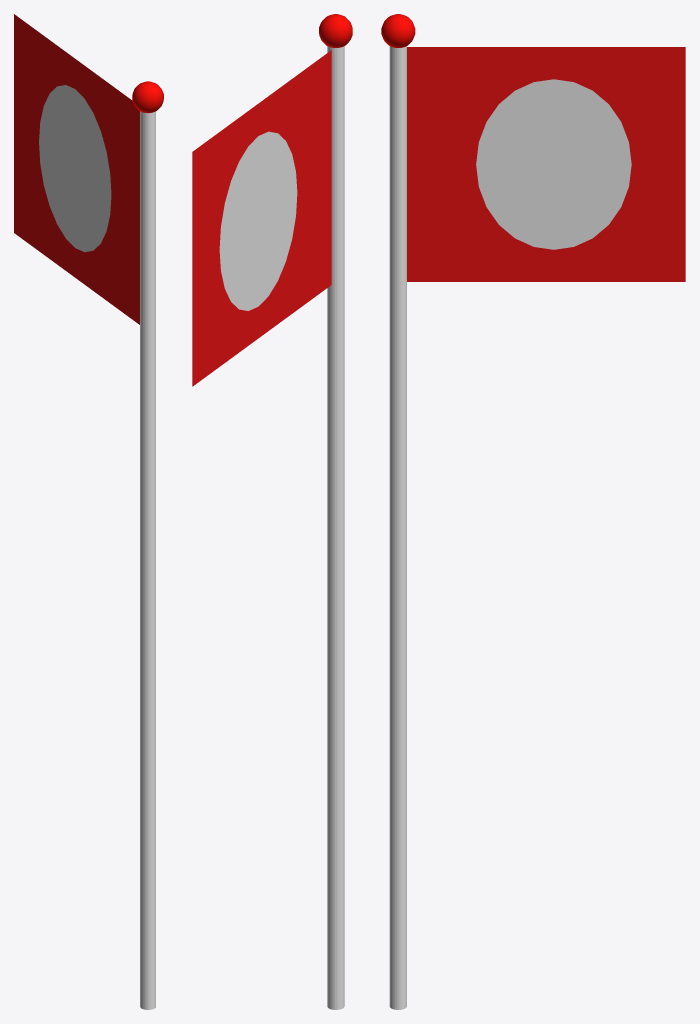
The model's file is Flag.Minigolf.fbx.
3 renders of one model, left to right at view 1: azimuth 30°, elevation 25°; view 2: azimuth 150°, elevation 25°; view 3: azimuth 270°, elevation 25°, orthographic. The views are drawn at different scales.
Parts seen in each view (by area): view 1: Plane.001, Cylinder.001, Circle.001, Sphere.001; view 2: Plane.001, Cylinder.001, Circle.001, Sphere.001; view 3: Plane.001, Circle.001, Cylinder.001, Sphere.001.
Boxes of the visible parts, x1,y1,x2,y2 form: Plane.001: [14, 14, 139, 324]; Cylinder.001: [140, 111, 155, 1009]; Circle.001: [39, 85, 111, 252]; Sphere.001: [132, 81, 163, 113]; Plane.001: [192, 50, 331, 386]; Cylinder.001: [327, 46, 344, 1009]; Circle.001: [219, 131, 297, 310]; Sphere.001: [319, 14, 352, 47]; Plane.001: [407, 47, 685, 281]; Circle.001: [476, 79, 631, 249]; Cylinder.001: [389, 46, 406, 1009]; Sphere.001: [381, 14, 415, 47].
Bounding box in the file's own units: 3.94 × 127 × 35.22.
